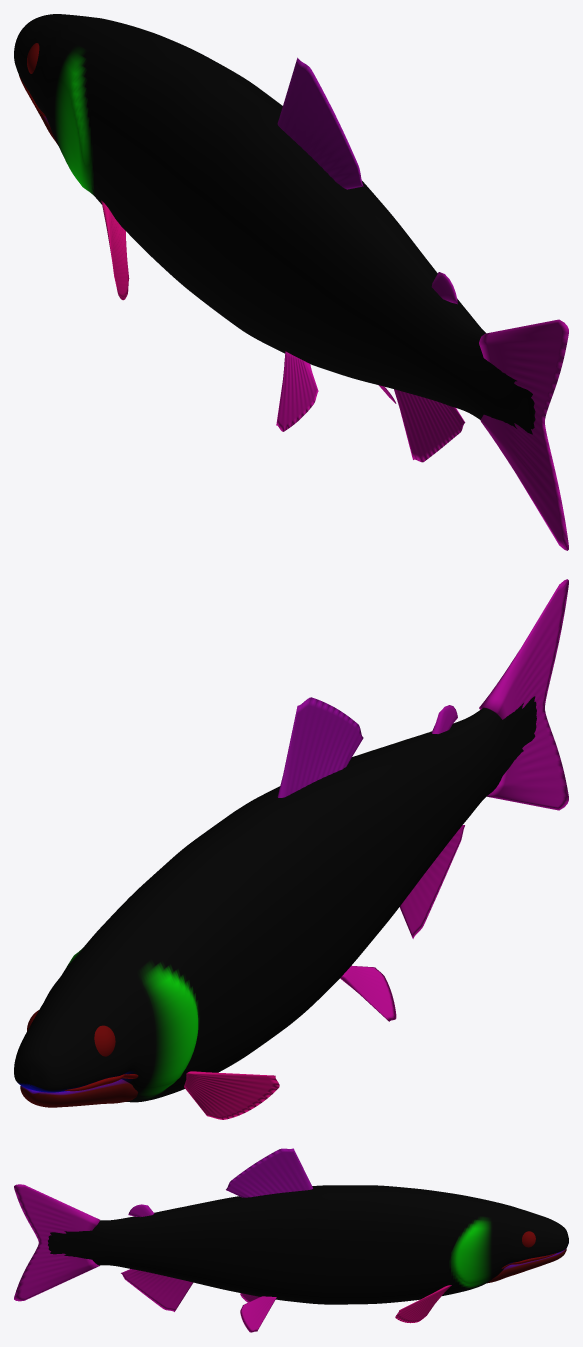
Rendered from sockeye_ocean.glb.
3 views of the same model, one above another, from view 1: azimuth 30°, elevation 25°; view 2: azimuth 150°, elevation 25°; view 3: azimuth 270°, elevation 25° (orthographic). The views are drawn at different scales.
Visible parts, largest first — view 1: sockeye_ocean; view 2: sockeye_ocean; view 3: sockeye_ocean.
Part boxes in pixels (<box>): sockeye_ocean: <box>14,14,568,550</box>; sockeye_ocean: <box>14,579,568,1119</box>; sockeye_ocean: <box>14,1148,568,1332</box>.
Bounding box in the file's own units: 0.1037 × 0.2016 × 0.5967.
